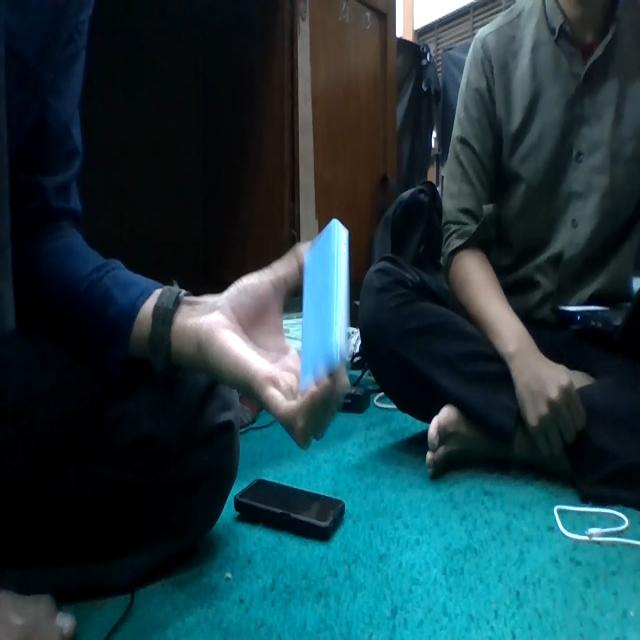Powerbank: (301, 219, 350, 391)
